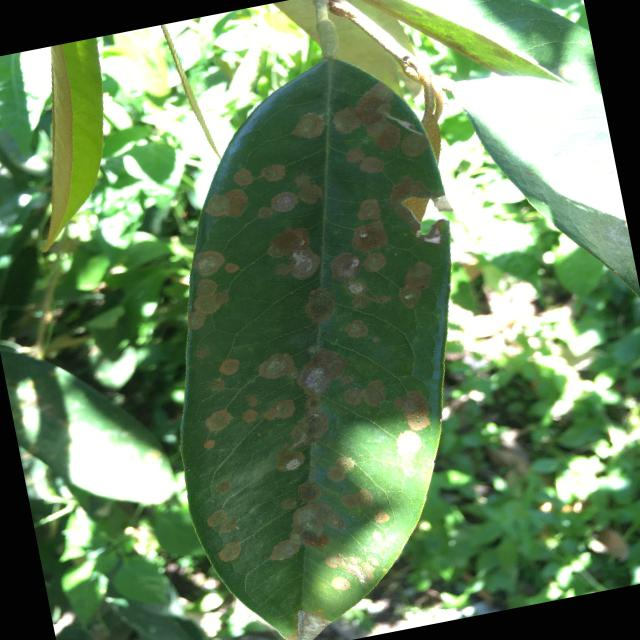Algal Leaf Spot: (105, 30, 533, 639)
